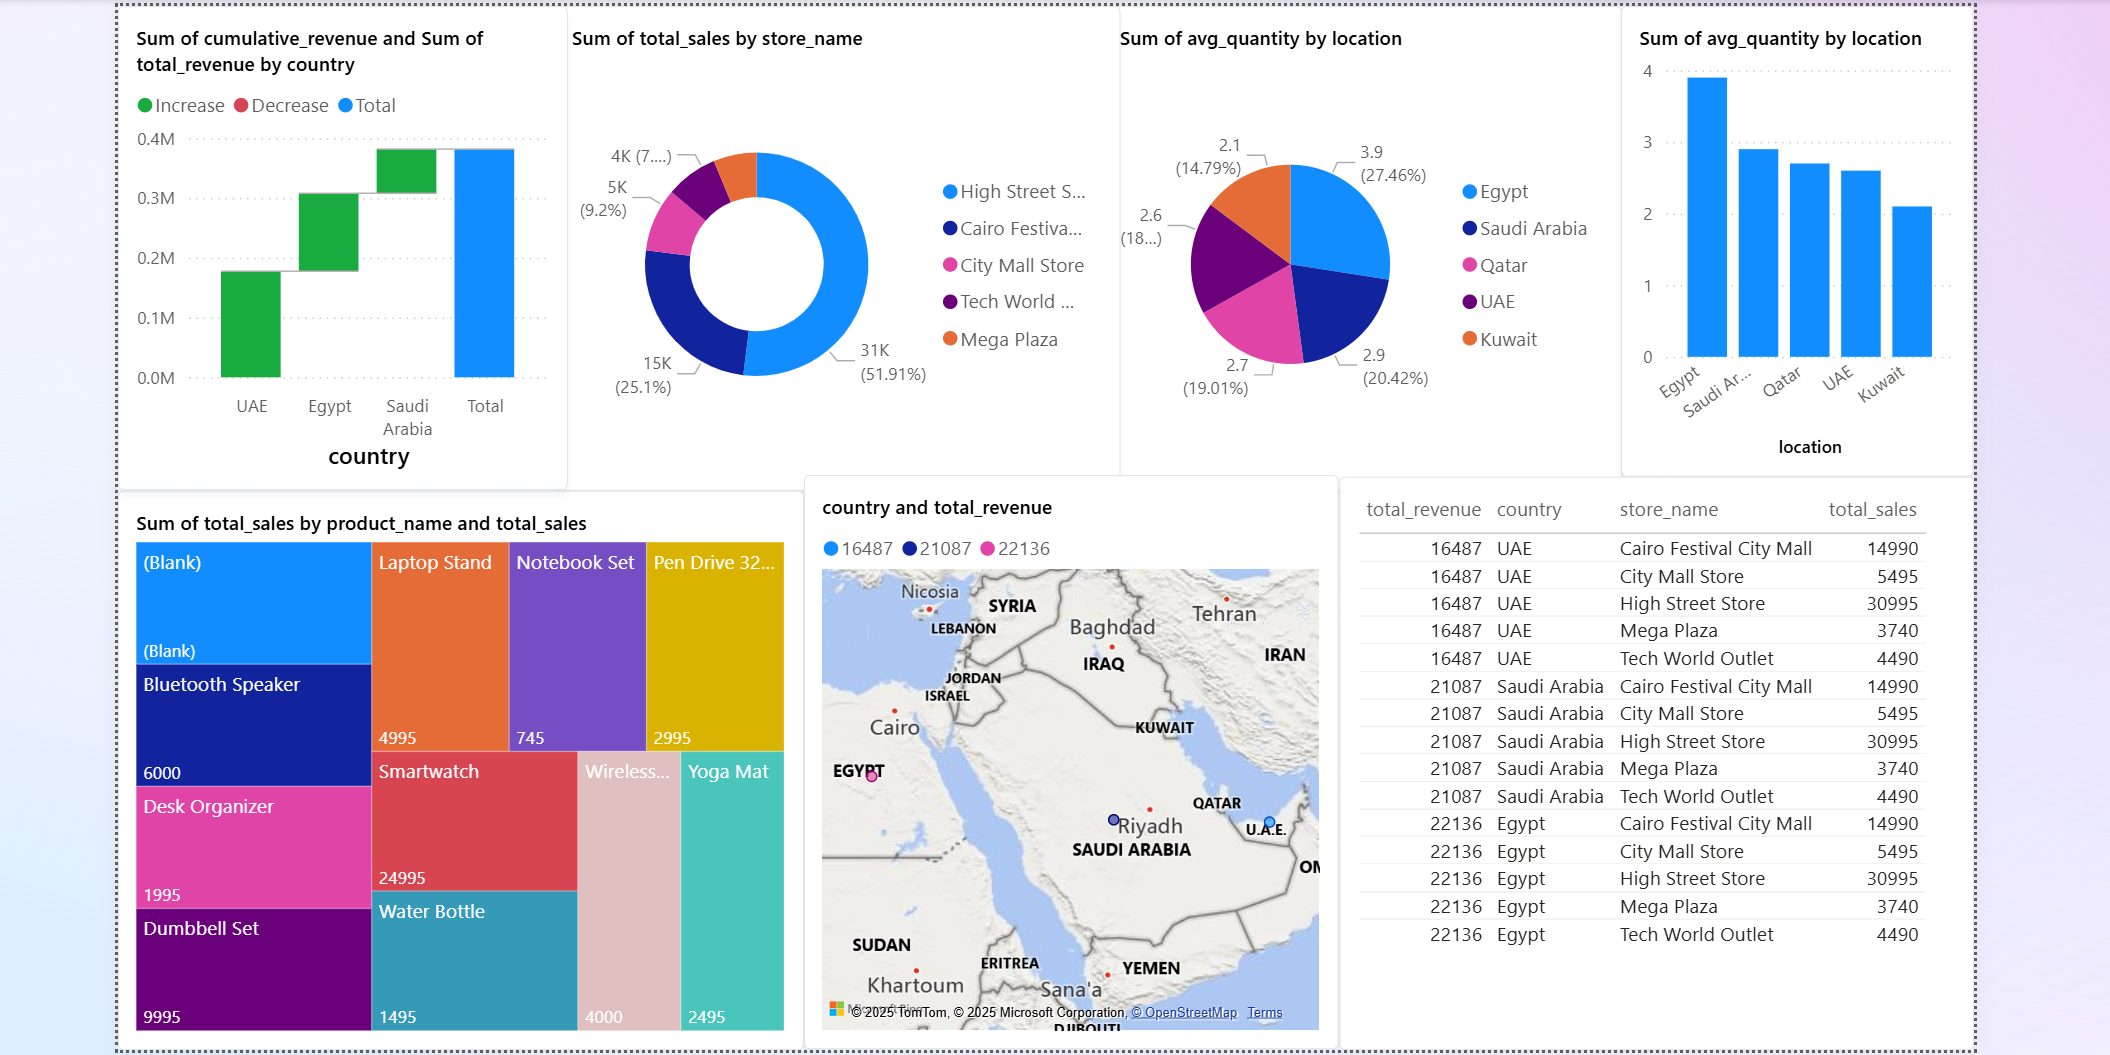

What the dashboard file says about the page in this screenshot:
{"tool":"powerbi","page":{"name":"Page 1","canvas":[1280,720],"ordinal":0},"visuals":[{"type":"pieChart","fields":{"Y":["Sum(avg_quantity_location.avg_quantity)"],"Category":["avg_quantity_location.location"]},"box":[678.6,0,358.6,334.3],"z":0},{"type":"donutChart","fields":{"Category":["sales_store.store_name"],"Y":["Sum(sales_store.total_sales)"]},"box":[300.8,0,390.8,334.2],"z":2000},{"type":"treemap","fields":{"Group":["sales_product.product_name","sales_location.location"],"Details":["sales_product.total_sales"],"Values":["Sum(sales_location.total_sales)"]},"box":[0,334.3,472.9,385.7],"z":3000},{"type":"clusteredColumnChart","fields":{"Y":["Sum(avg_quantity_location.avg_quantity)"],"Category":["avg_quantity_location.location"]},"box":[1037.1,0,242.9,324.3],"z":4000},{"type":"tableEx","fields":{"Values":["countryrevenue_gold.total_revenue","countryrevenue_gold.country","storesales_gold.store_name","storesales_gold.total_sales"]},"box":[842,324.6,437.8,395.5],"z":5000},{"type":"map","fields":{"Series":["countryrevenue_gold.total_revenue"],"Category":["countryrevenue_gold.country"]},"box":[473.8,323.8,368.8,396.2],"z":6000},{"type":"waterfallChart","fields":{"Y":["Sum(countryrevenue_waterfall_gold.cumulative_revenue)"],"Category":["countryrevenue_waterfall_gold.country"]},"box":[0,0,310,333.8],"z":7000}]}

Visuals, with their boxes on the page's 1280x720 design canvas (x1, y1, x2, y2). These are canvas units, not pixel positions in the 2110x1055 screenshot, which may show the page scaled, cropped or inside an application window:
pieChart - Sum(avg_quantity_location.avg_quantity) x avg_quantity_location.location: 679,0,1037,334
donutChart - sales_store.store_name x Sum(sales_store.total_sales): 301,0,692,334
treemap - sales_product.product_name x sales_location.location: 0,334,473,720
clusteredColumnChart - Sum(avg_quantity_location.avg_quantity) x avg_quantity_location.location: 1037,0,1280,324
tableEx - countryrevenue_gold.total_revenue x countryrevenue_gold.country: 842,325,1280,720
map - countryrevenue_gold.total_revenue x countryrevenue_gold.country: 474,324,843,720
waterfallChart - Sum(countryrevenue_waterfall_gold.cumulative_revenue) x countryrevenue_waterfall_gold.country: 0,0,310,334
